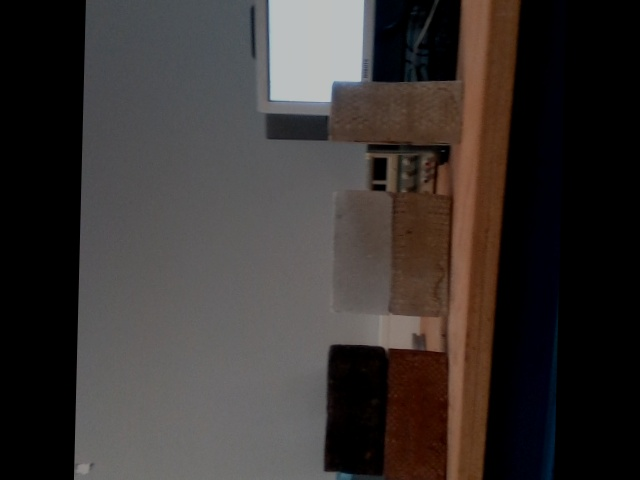brick: (329, 79, 463, 144), (386, 349, 448, 479), (325, 347, 387, 471), (333, 191, 391, 311), (394, 193, 446, 312)
